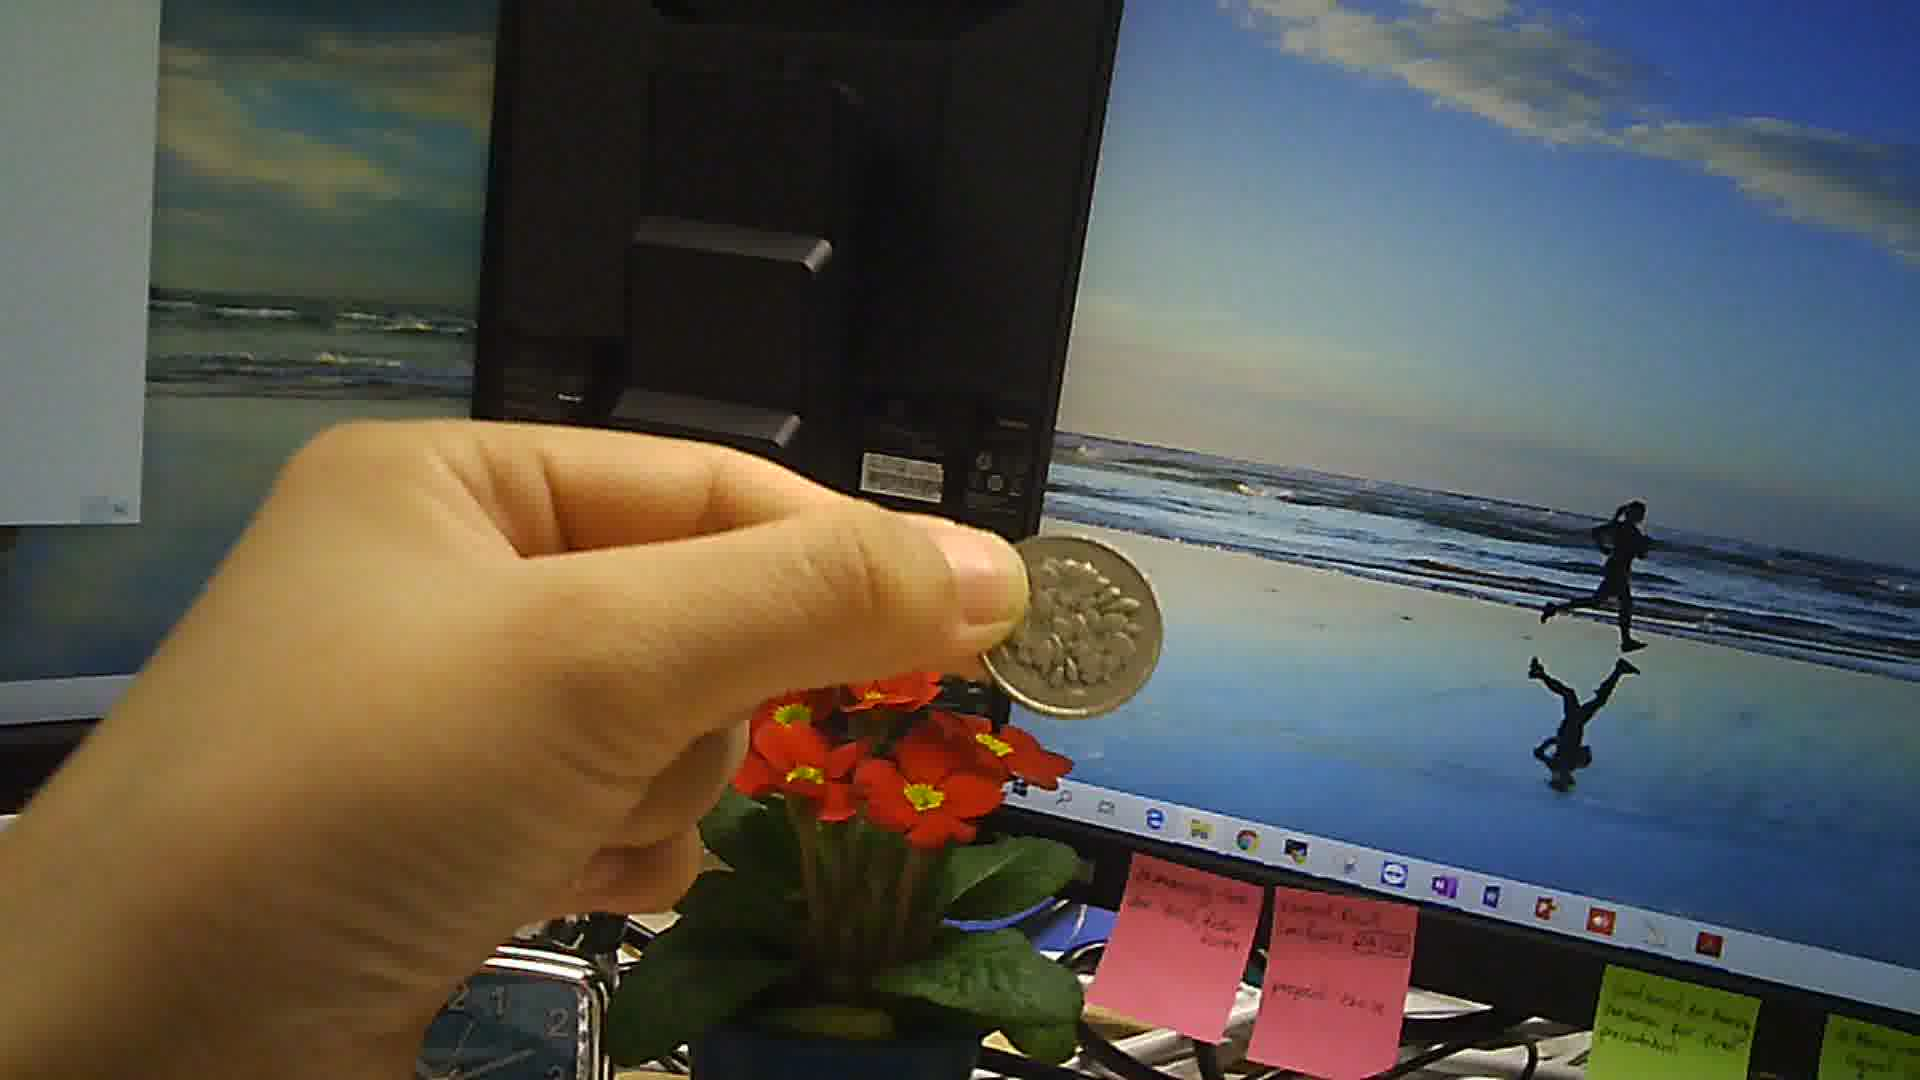100 Yen: (975, 531, 1164, 721)
